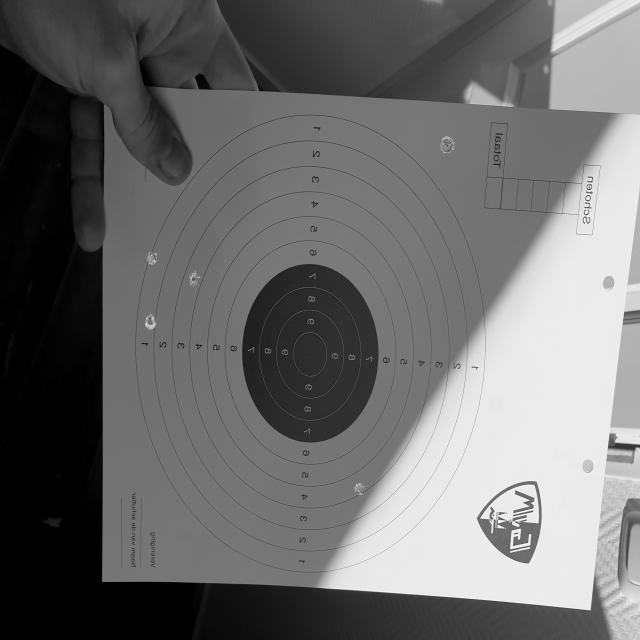0: (440, 135, 455, 154)
1: (147, 252, 157, 265)
2: (144, 313, 156, 331)
3: (189, 270, 201, 287)
4: (354, 483, 365, 495)
Target: (134, 110, 486, 574)
black_contour: (242, 263, 379, 442)
